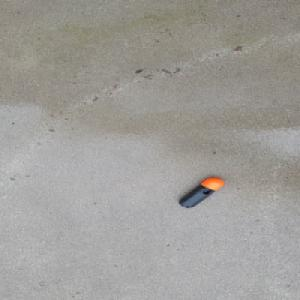PlasticPart: (177, 177, 225, 208)
